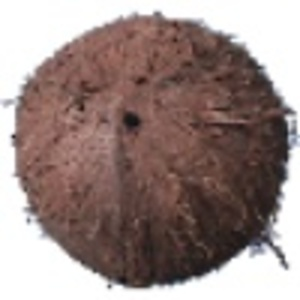coco: (1, 13, 300, 289)
